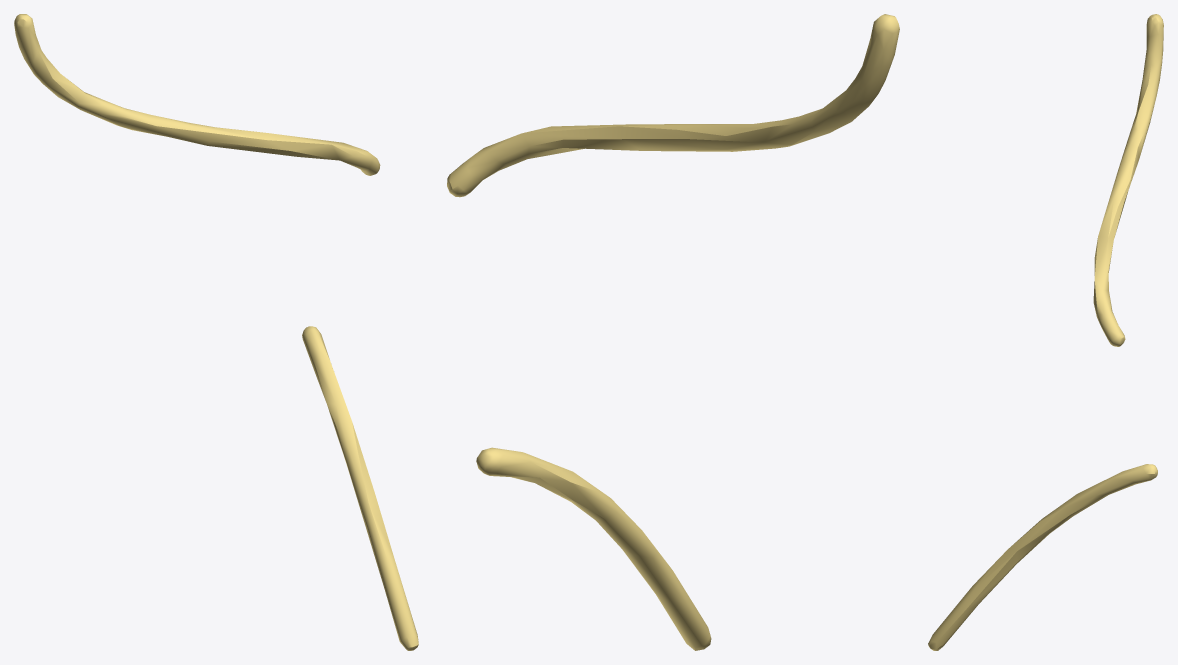
Rendered from fma53073_fj3933.glb.
The picture shows the model from 3 angles, left to right: view 1: azimuth 30°, elevation 25°; view 2: azimuth 150°, elevation 25°; view 3: azimuth 270°, elevation 25°; orthographic projection. The views are drawn at different scales.
Parts seen in each view (by area): view 1: FMA53073_FJ3933; view 2: FMA53073_FJ3933; view 3: FMA53073_FJ3933.
Boxes of the visible parts, x1,y1,x2,y2 form: FMA53073_FJ3933: (14, 14, 418, 650); FMA53073_FJ3933: (447, 14, 899, 650); FMA53073_FJ3933: (928, 14, 1163, 650).
Size of the model in its own units: 0.00581 by 0.00986 by 0.00401.
